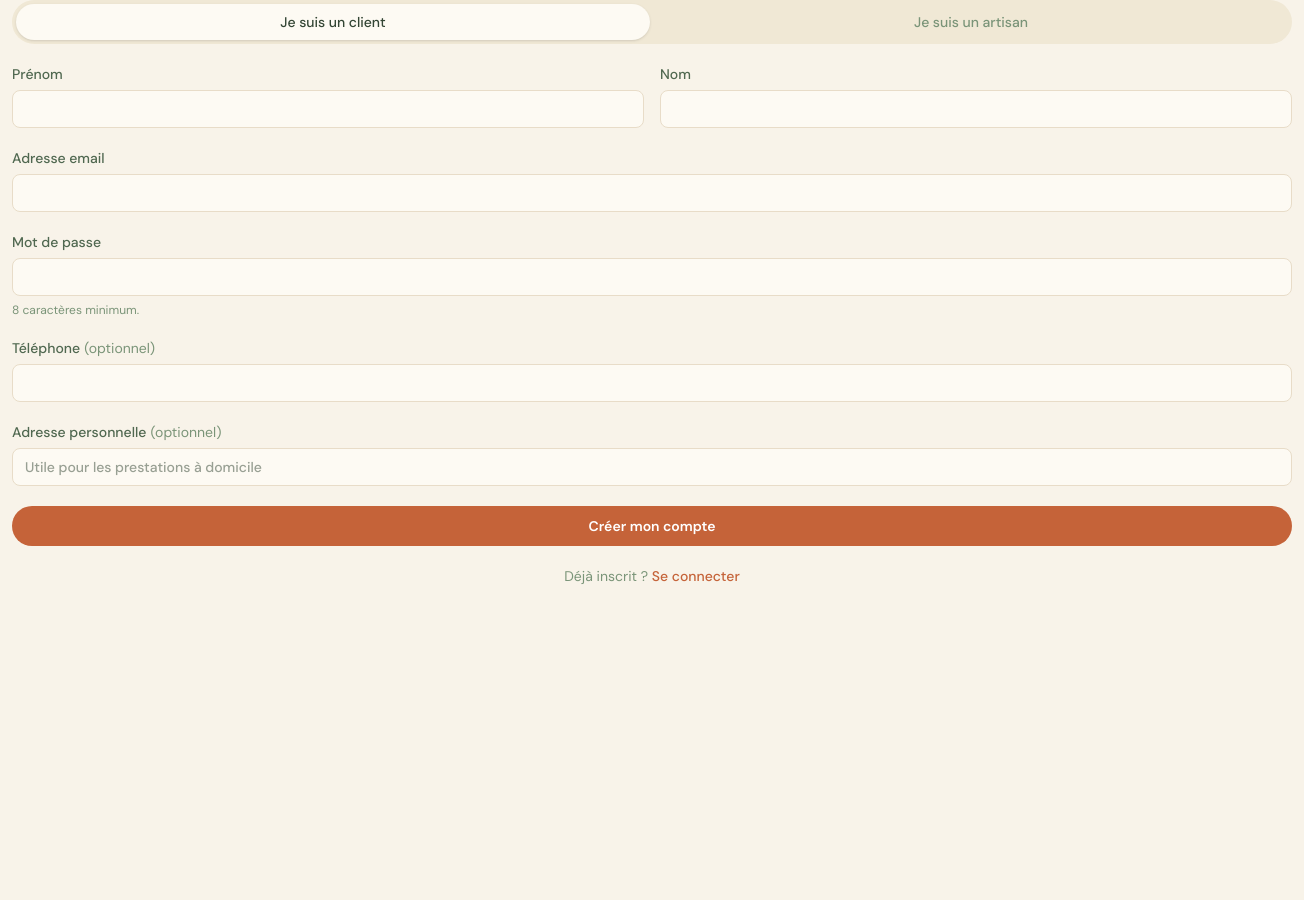
Scenario: RegisterForm › shows field-level validation errors returned by the API
Type "Jean" into the field labelled "Prénom" at x=328, y=109, box [12,90,644,128]
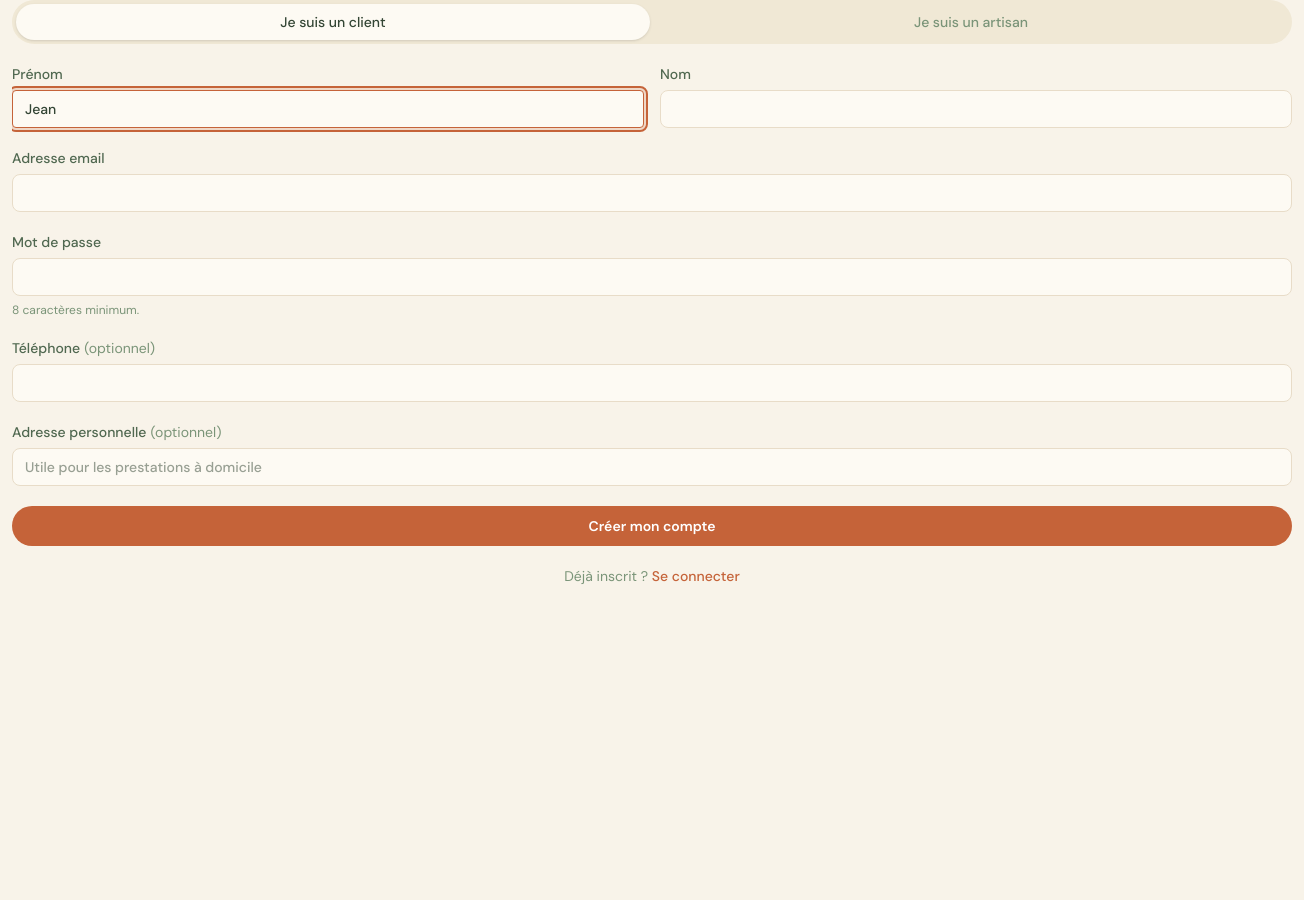
Type "Dupont" into the field labelled "Nom" at x=976, y=109, box [660,90,1292,128]
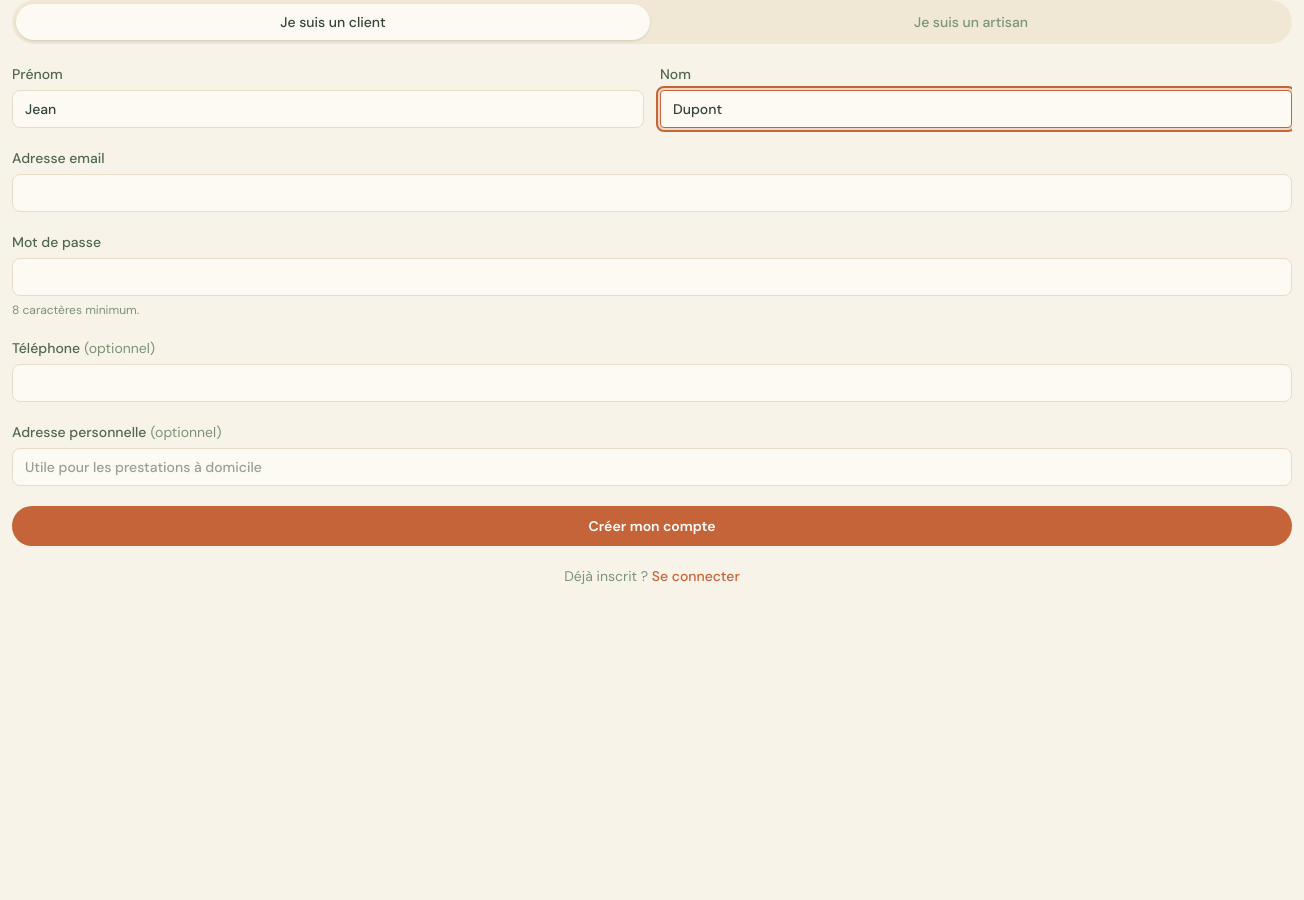
Type "jean.dupont@example.com" into the field labelled "Adresse email" at x=652, y=193, box [12,174,1292,212]
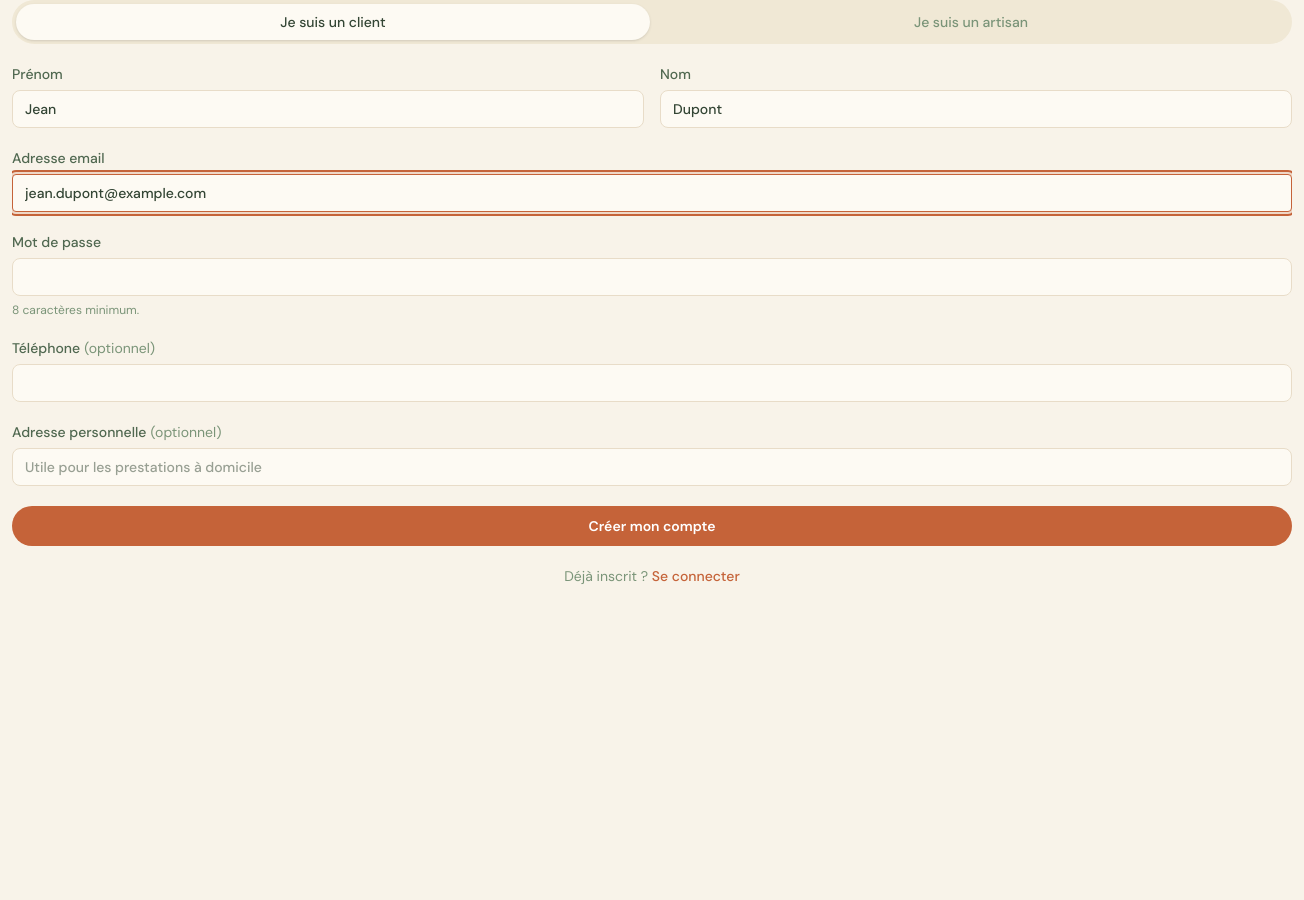
Type "motdepasse123" into the password field labelled "Mot de passe 8 caractères minimum." at x=652, y=277, box [12,258,1292,296]
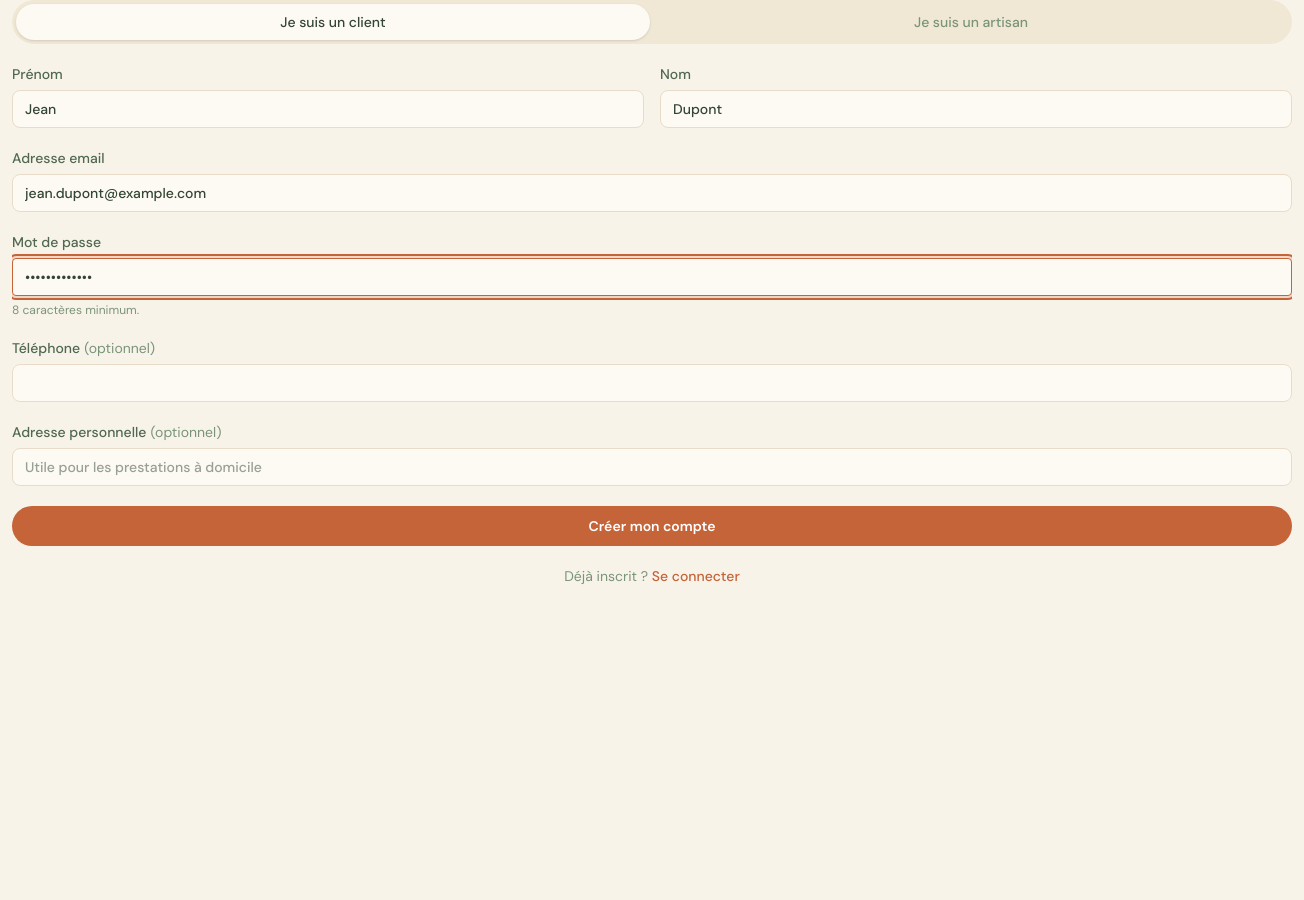
Click the button "Créer mon compte" at x=652, y=526, box [12,506,1292,546]
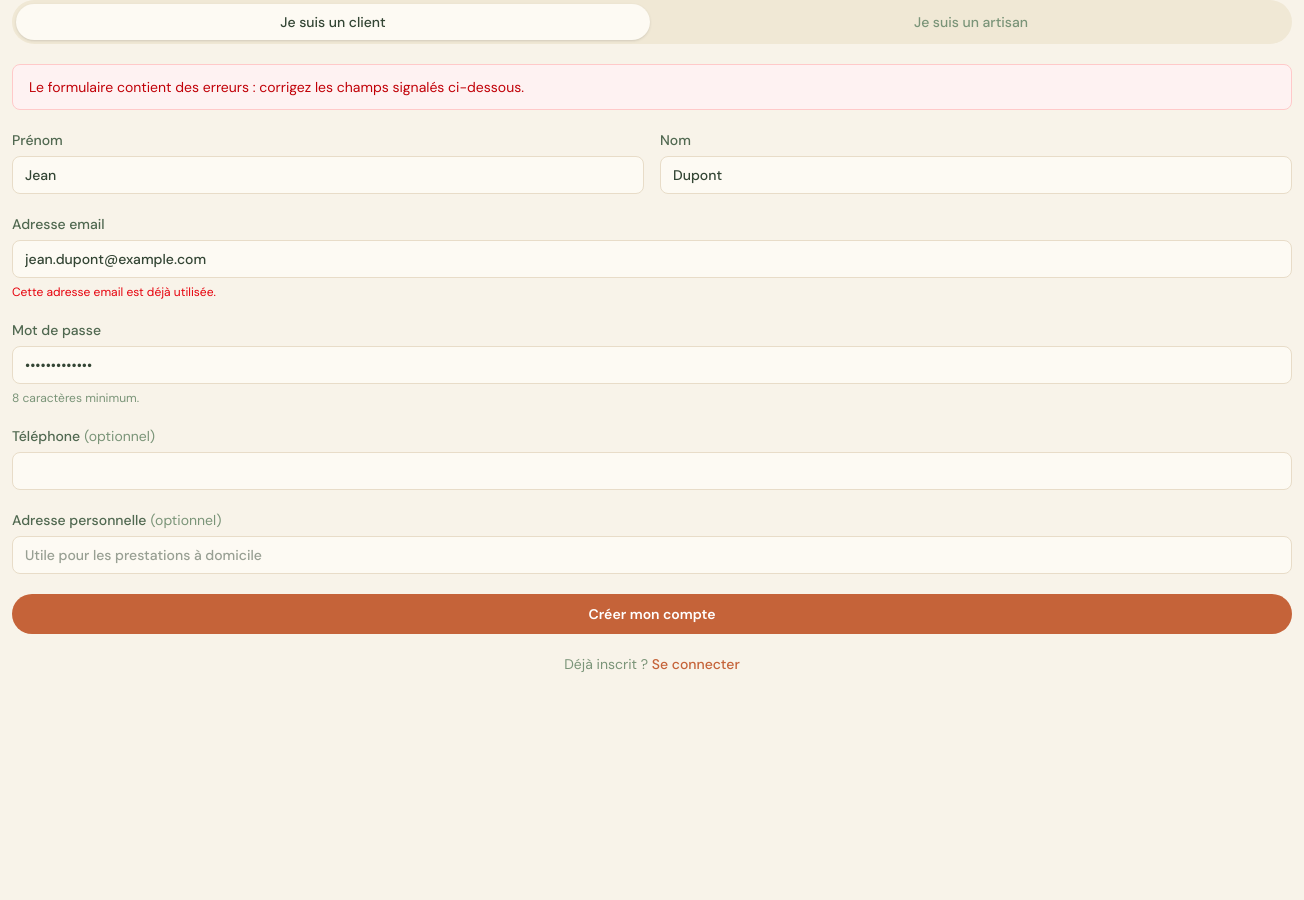
Result: the text "Le formulaire contient des erreurs : corrigez les champs signalés ci-dessous." is shown at [12,64,1292,110]
Result: the text "Cette adresse email est déjà utilisée." is shown at [12,284,216,300]
